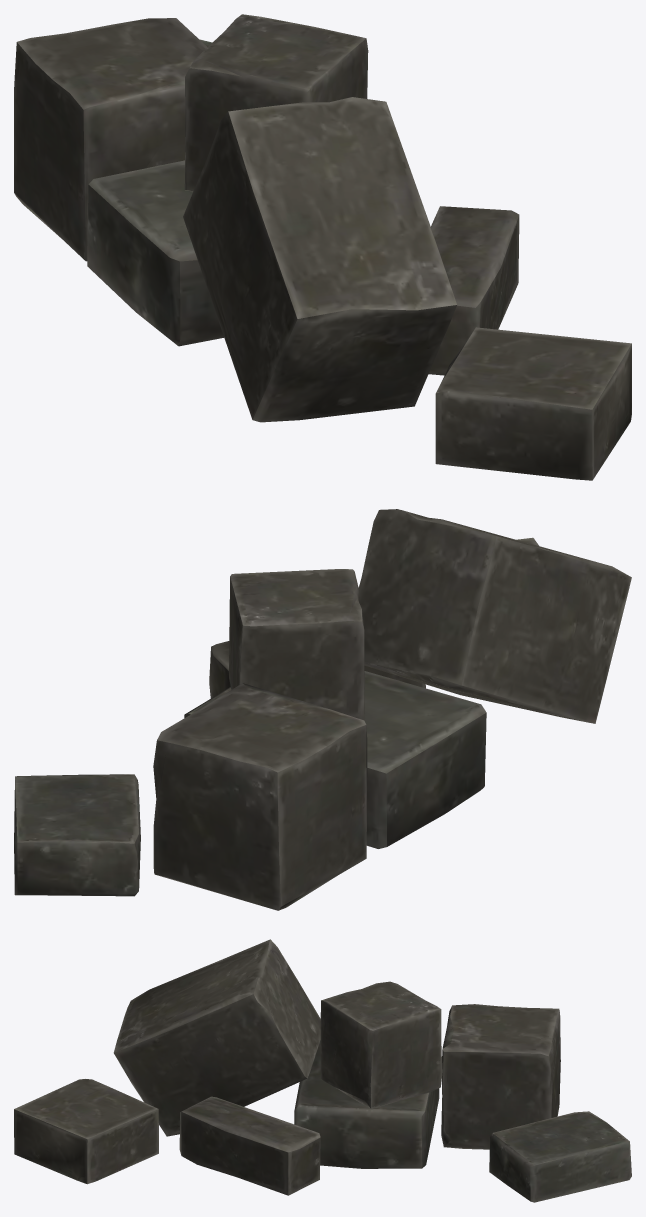
3 renders of one model, top to bottom at view 1: azimuth 30°, elevation 25°; view 2: azimuth 150°, elevation 25°; view 3: azimuth 270°, elevation 25°, orthographic. The views are drawn at different scales.
Visible parts, largest first — view 1: SM_DR_Nexus_Rubble_03_LOD0; view 2: SM_DR_Nexus_Rubble_03_LOD0; view 3: SM_DR_Nexus_Rubble_03_LOD0.
Part boxes in pixels (x1,y1,x2,y2): SM_DR_Nexus_Rubble_03_LOD0: [14, 14, 631, 480]; SM_DR_Nexus_Rubble_03_LOD0: [14, 509, 631, 910]; SM_DR_Nexus_Rubble_03_LOD0: [14, 939, 631, 1202].
Size of the model in its own units: 2.34 by 1.57 by 5.29.
1 material, 1 textured.
